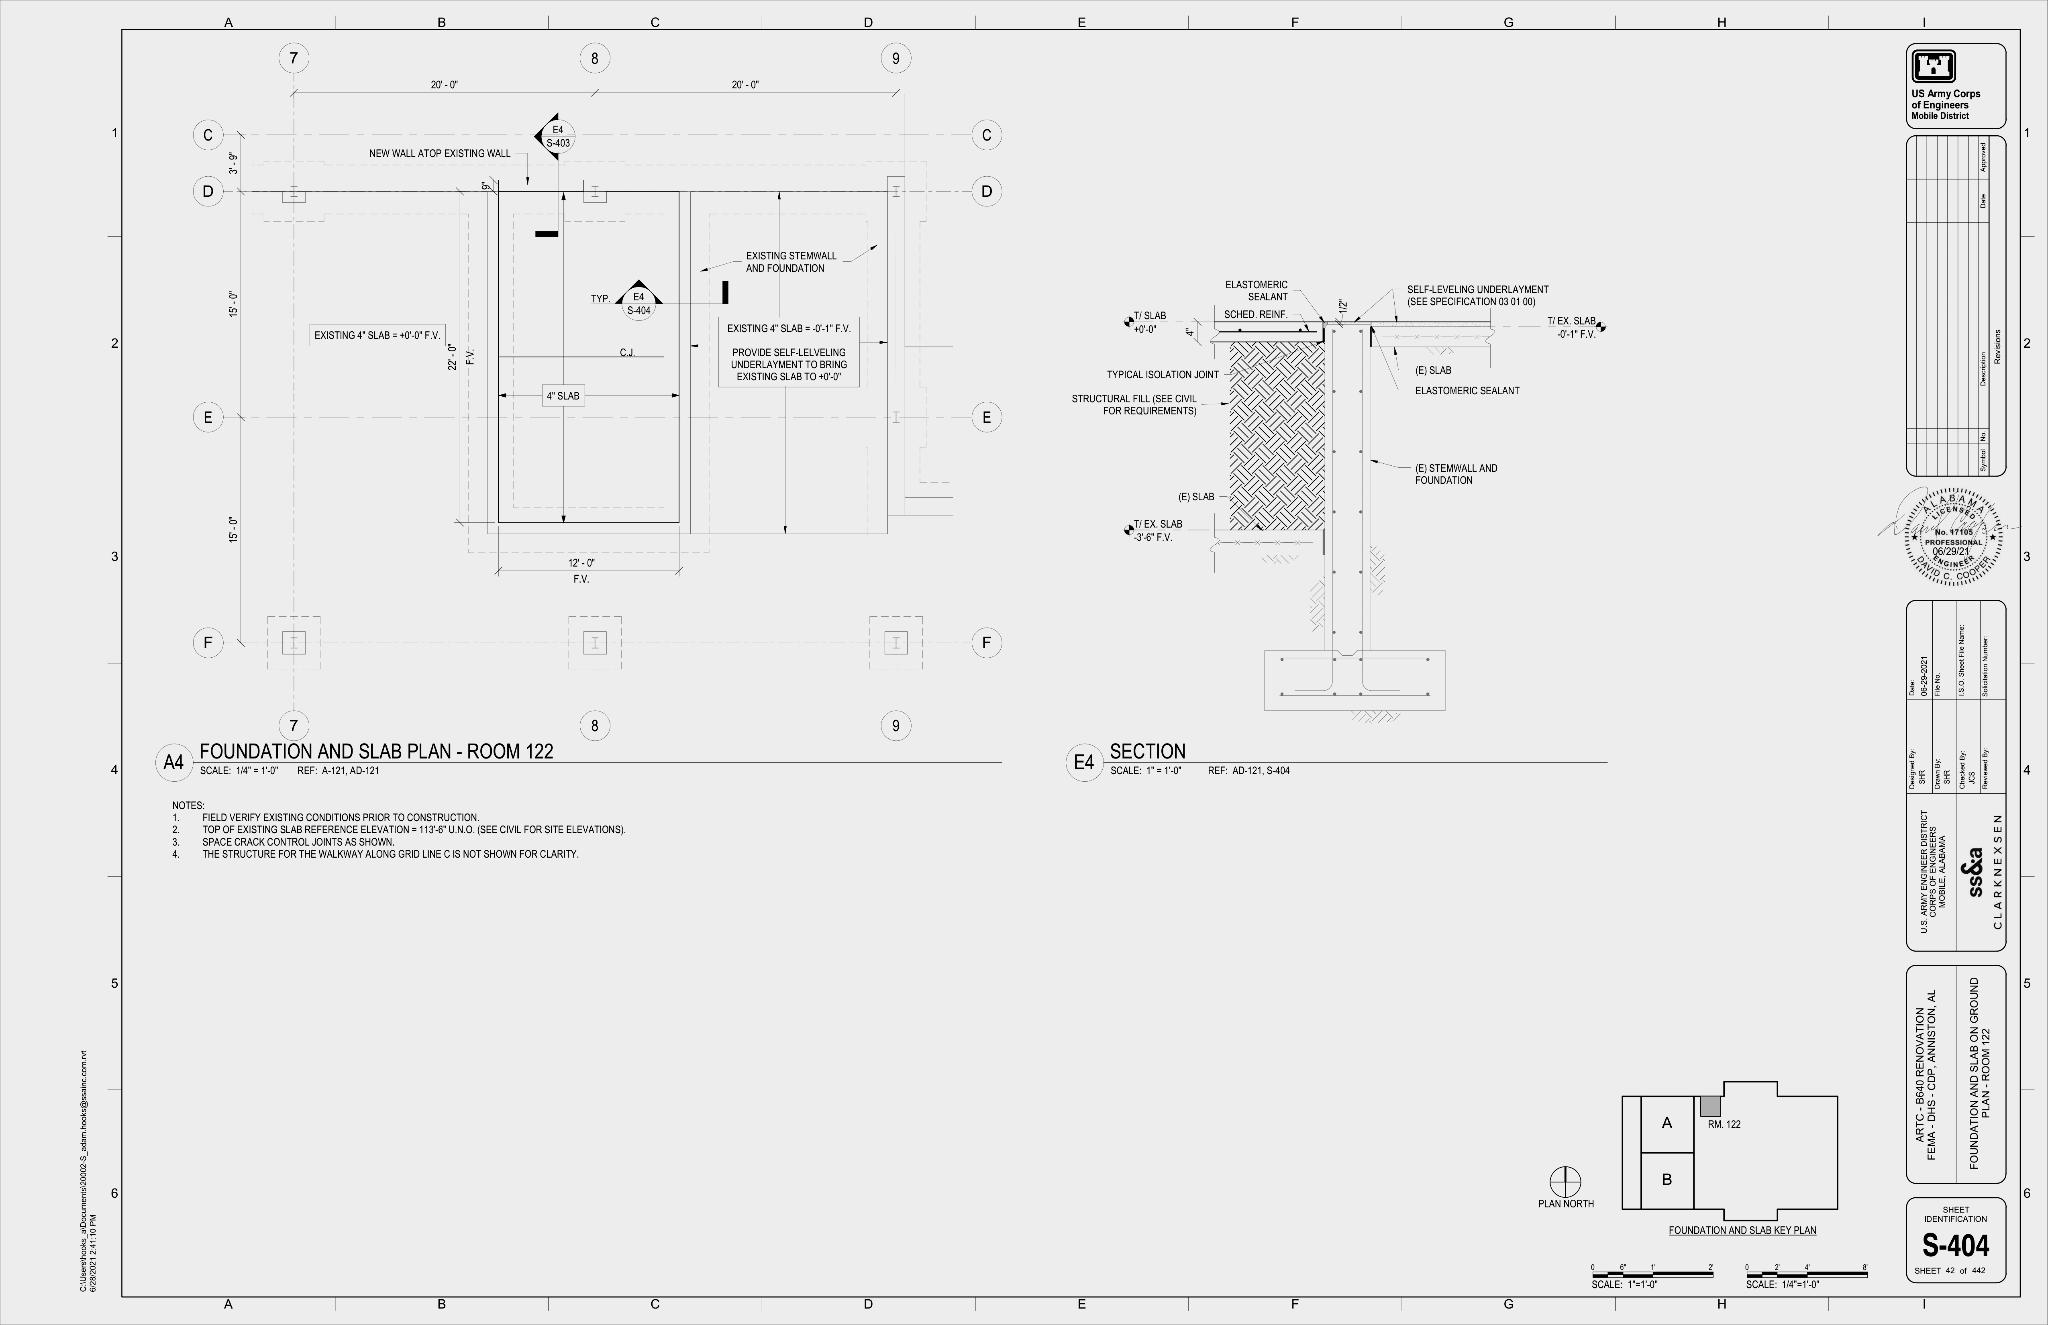elevation: (525, 109, 587, 168), (606, 275, 669, 327)
title: (146, 736, 1009, 785), (1057, 732, 1615, 786)
